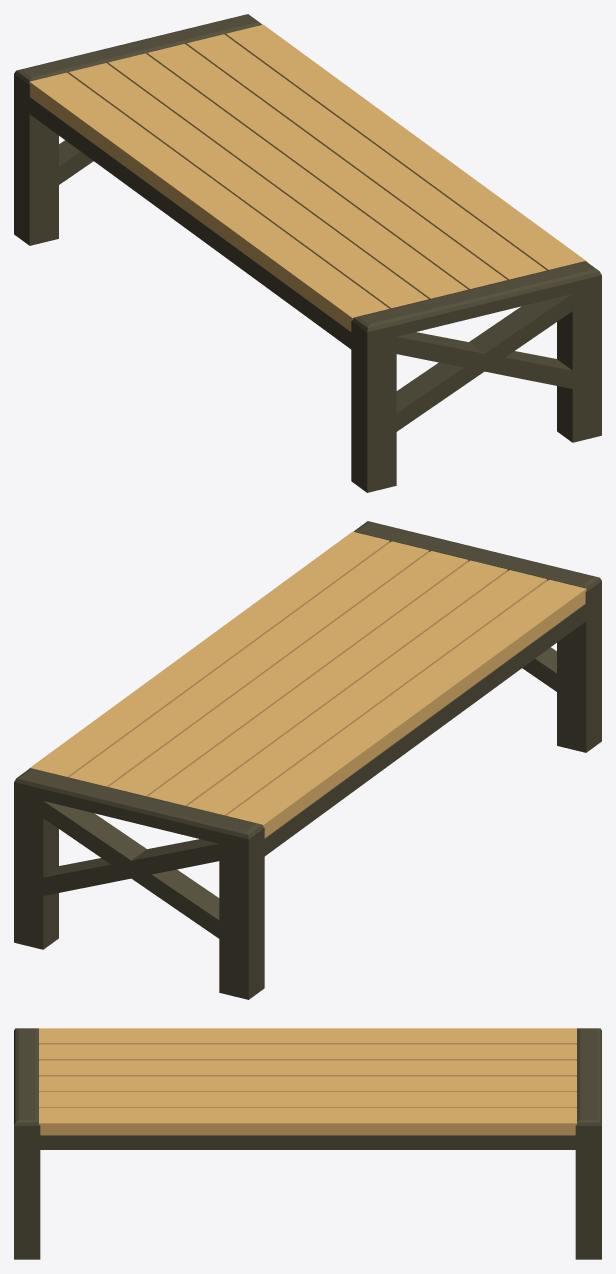
File: banco02.fbx
3 renders of one model, top to bottom at view 1: azimuth 30°, elevation 25°; view 2: azimuth 150°, elevation 25°; view 3: azimuth 270°, elevation 25°, orthographic. The views are drawn at different scales.
Parts seen in each view (by area): view 1: asiento, base; view 2: asiento, base; view 3: asiento, base.
Part boxes in pixels (x1,y1,x2,y2): asiento: (29, 24, 586, 330); base: (14, 14, 601, 492); asiento: (29, 531, 586, 837); base: (14, 521, 601, 999); asiento: (39, 1028, 576, 1135); base: (14, 1028, 601, 1259).
Size of the model in its own units: 244 by 164 by 635.
